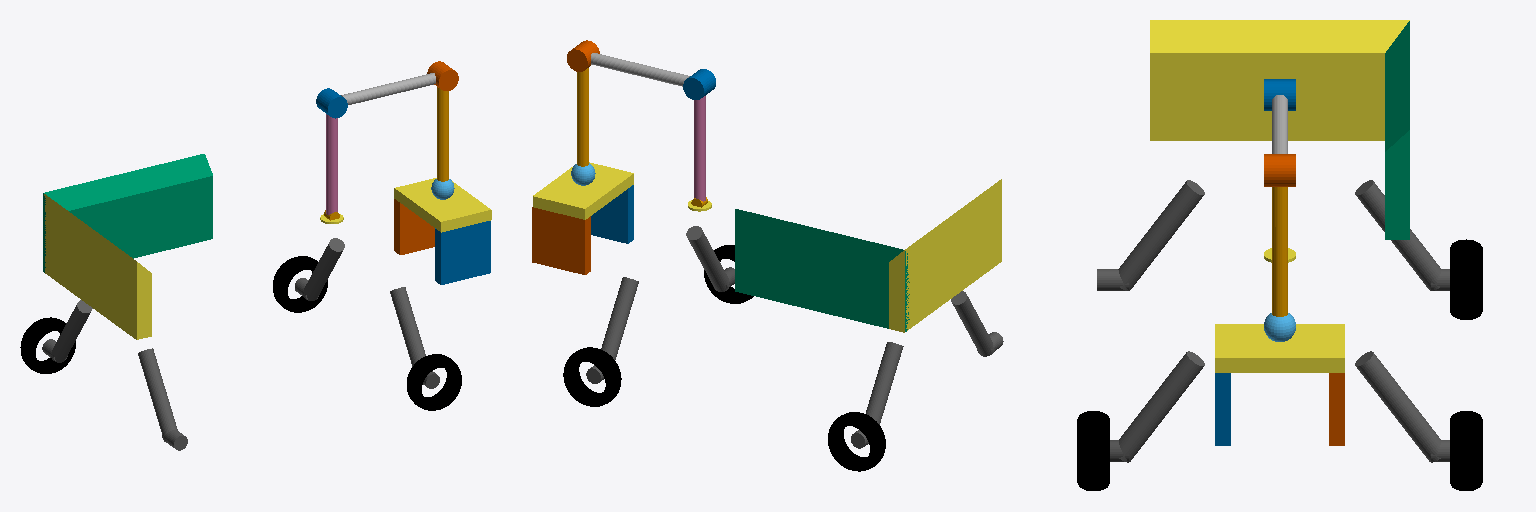
--- Facts derived from the render (not from the file) ---
Views: 3 orthographic renders of the robot side by side, from view 1: azimuth 30°, elevation 25°; view 2: azimuth 150°, elevation 25°; view 3: azimuth 270°, elevation 25°.
Model robot with 30 links and 29 joints (4 revolute, 6 continuous, 2 prismatic, 15 fixed, 2 floating), rooted at chasis, posed every joint at zero.
Visible links, largest first — view 1: pared_izq_link, pared_tr_link, pinza_dcha_link, base_pinza_link, rueda_dlt_dcha_link, pinza_izq_link, rueda_dlt_izq_link, rueda_tr_izq_link, susp_tr_dcha_link, susp_dlt_dcha_link, brazo_link1, brazo_link3 (+5 smaller); view 2: pared_izq_link, pared_tr_link, pinza_izq_link, base_pinza_link, rueda_tr_izq_link, rueda_dlt_izq_link, pinza_dcha_link, susp_dlt_izq_link, susp_tr_izq_link, brazo_link1, brazo_link2, susp_dlt_dcha_link (+5 smaller); view 3: pared_tr_link, base_pinza_link, pared_izq_link, susp_tr_dcha_link, susp_dlt_dcha_link, susp_dlt_izq_link, rueda_tr_izq_link, rueda_dlt_dcha_link, rueda_dlt_izq_link, susp_tr_izq_link, brazo_link3, pinza_dcha_link (+6 smaller).
Boxes of the visible links, box(x1,y1,x2,y2) form: pared_izq_link: box(43, 154, 212, 272); pared_tr_link: box(44, 194, 151, 339); pinza_dcha_link: box(435, 221, 490, 284); base_pinza_link: box(394, 178, 491, 232); rueda_dlt_dcha_link: box(407, 354, 461, 410); pinza_izq_link: box(394, 199, 434, 254); rueda_dlt_izq_link: box(273, 256, 327, 312); rueda_tr_izq_link: box(20, 317, 75, 373); susp_tr_dcha_link: box(138, 348, 177, 441); susp_dlt_dcha_link: box(390, 287, 425, 366); brazo_link1: box(326, 114, 337, 214); brazo_link3: box(437, 87, 448, 181); pared_izq_link: box(735, 209, 909, 331); pared_tr_link: box(889, 179, 1001, 332); pinza_izq_link: box(532, 207, 590, 274); base_pinza_link: box(533, 162, 633, 219); rueda_tr_izq_link: box(828, 412, 885, 471); rueda_dlt_izq_link: box(563, 347, 621, 406); pinza_dcha_link: box(591, 185, 633, 243); susp_dlt_izq_link: box(601, 277, 638, 359); susp_tr_izq_link: box(866, 342, 903, 424); brazo_link1: box(694, 96, 705, 201); brazo_link2: box(591, 53, 689, 86); susp_dlt_dcha_link: box(686, 226, 729, 291); pared_tr_link: box(1150, 20, 1409, 140); base_pinza_link: box(1215, 324, 1344, 372); pared_izq_link: box(1385, 21, 1409, 239); susp_tr_dcha_link: box(1118, 180, 1204, 290); susp_dlt_dcha_link: box(1119, 351, 1204, 462); susp_dlt_izq_link: box(1355, 351, 1440, 462); rueda_tr_izq_link: box(1450, 239, 1482, 319); rueda_dlt_dcha_link: box(1077, 411, 1109, 490); rueda_dlt_izq_link: box(1450, 411, 1482, 490); susp_tr_izq_link: box(1355, 180, 1441, 290); brazo_link3: box(1272, 187, 1287, 316); pinza_dcha_link: box(1215, 373, 1230, 445).
Size in the robot's own frame: 3.75 by 2.5 by 2.61 metres.
Meshes: 11 distinct files referenced, 5 mesh visuals loaded (5 Collada DAE); not drawn: 6 (reference not matched to a file when rendering).

robot.urdf — robot:
<?xml version="1.0"?>
<!-- created with Phobos 1.0.1 "Capricious Choutengan" -->
  <robot name="robot">

    <link name="Untitled">
      <inertial>
        <origin xyz="0 0 0" rpy="0 0 0"/>
        <mass value="0.001"/>
        <inertia ixx="0.001" ixy="0" ixz="0" iyy="0.001" iyz="0" izz="0.001"/>
      </inertial>
      <visual name="Cylinder.001">
        <origin xyz="0 0 0" rpy="0 0 0"/>
        <geometry>
          <cylinder radius="0.05" length="0.1"/>
        </geometry>
      </visual>
    </link>

    <link name="Untitled.002">
      <inertial>
        <origin xyz="0 0 0" rpy="0 0 0"/>
        <mass value="0.001"/>
        <inertia ixx="0.001" ixy="0" ixz="0" iyy="0.001" iyz="0" izz="0.001"/>
      </inertial>
      <visual name="brazo_eje3_obj">
        <origin xyz="0 0 0" rpy="-1.5708 0 0"/>
        <geometry>
          <sphere radius="0.1"/>
        </geometry>
      </visual>
      <collision name="brazo_eje3_col">
        <origin xyz="0 0 0" rpy="-1.5708 0 0"/>
        <geometry>
          <sphere radius="0.1"/>
        </geometry>
      </collision>
    </link>

    <link name="anclaje_brazo_link">
      <inertial>
        <origin xyz="0 0 0.05625" rpy="0 0 0"/>
        <mass value="1.0"/>
        <inertia ixx="0.02658" ixy="0" ixz="0" iyy="0.02658" iyz="0" izz="0.04167"/>
      </inertial>
      <visual name="soporte_brazo_obj">
        <origin xyz="0 0 0" rpy="0 0 0"/>
        <geometry>
          <mesh filename="../meshes/dae/Cube.010.dae" scale="0.25 0.25 0.075"/>
        </geometry>
      </visual>
      <collision name="soporte_brazo_col">
        <origin xyz="0 0 0.05625" rpy="0 0 0"/>
        <geometry>
          <box size="0.5 0.5 0.2625"/>
        </geometry>
      </collision>
    </link>

    <link name="base_pinza_link">
      <inertial>
        <origin xyz="0 0 0" rpy="0 0 0"/>
        <mass value="0.5"/>
        <inertia ixx="0.001" ixy="0" ixz="0" iyy="0.001" iyz="0" izz="0.001"/>
      </inertial>
      <visual name="base_pinza_obj">
        <origin xyz="0 0 0" rpy="-1.5708 0 -0.00175"/>
        <geometry>
          <box size="0.5 0.1 0.8"/>
        </geometry>
      </visual>
      <collision name="base_pinza_col">
        <origin xyz="0 0 0" rpy="-1.5708 0 -0.00175"/>
        <geometry>
          <box size="0.5 0.1 0.8"/>
        </geometry>
      </collision>
    </link>

    <link name="brazo_eje1_link">
      <inertial>
        <origin xyz="0 0 0" rpy="0 0 0"/>
        <mass value="1.0"/>
        <inertia ixx="2e-05" ixy="0" ixz="0" iyy="2e-05" iyz="0" izz="2e-05"/>
      </inertial>
      <visual name="brazo_eje1_obj">
        <origin xyz="0 0 0" rpy="0 0 0"/>
        <geometry>
          <cylinder radius="0.1" length="0.2"/>
        </geometry>
      </visual>
      <collision name="brazo_eje1_col">
        <origin xyz="0 0 0" rpy="0 0 0"/>
        <geometry>
          <cylinder radius="0.1" length="0.2"/>
        </geometry>
      </collision>
    </link>

    <link name="brazo_eje2_link">
      <inertial>
        <origin xyz="0 0 0" rpy="0 0 0"/>
        <mass value="1.0"/>
        <inertia ixx="0.00583" ixy="0" ixz="0" iyy="0.005" iyz="0" izz="0.00583"/>
      </inertial>
      <visual name="brazo_eje2_obj">
        <origin xyz="0 0 0" rpy="0 0 0"/>
        <geometry>
          <cylinder radius="0.1" length="0.2"/>
        </geometry>
      </visual>
      <collision name="brazo_eje2_col">
        <origin xyz="0 0 0" rpy="0 0 0"/>
        <geometry>
          <cylinder radius="0.1" length="0.2"/>
        </geometry>
      </collision>
    </link>

    <link name="brazo_link1">
      <inertial>
        <origin xyz="0 0 0" rpy="0 0 0"/>
        <mass value="1.0"/>
        <inertia ixx="0.001" ixy="0" ixz="0" iyy="0.001" iyz="0" izz="0.001"/>
      </inertial>
      <visual name="brazo_link1_obj">
        <origin xyz="0 0 0" rpy="0 0 0"/>
        <geometry>
          <cylinder radius="0.05" length="1.0"/>
        </geometry>
      </visual>
      <collision name="brazo_link1_col">
        <origin xyz="0 0 0" rpy="0 0 0"/>
        <geometry>
          <cylinder radius="0.05" length="1.0"/>
        </geometry>
      </collision>
    </link>

    <link name="brazo_link2">
      <inertial>
        <origin xyz="0 0 0" rpy="0 0 0"/>
        <mass value="1.0"/>
        <inertia ixx="0.001" ixy="0" ixz="0" iyy="0.001" iyz="0" izz="0.001"/>
      </inertial>
      <visual name="brazo_link2_obj">
        <origin xyz="0 0 0" rpy="0 0 0"/>
        <geometry>
          <cylinder radius="0.05" length="1.0"/>
        </geometry>
      </visual>
      <collision name="brazo_link2_col">
        <origin xyz="0 0 0" rpy="0 0 0"/>
        <geometry>
          <cylinder radius="0.05" length="1.0"/>
        </geometry>
      </collision>
    </link>

    <link name="brazo_link3">
      <inertial>
        <origin xyz="0 0 0" rpy="0 0 0"/>
        <mass value="1.0"/>
        <inertia ixx="0.001" ixy="0" ixz="0" iyy="0.001" iyz="0" izz="0.001"/>
      </inertial>
      <visual name="brazo_link3_obj">
        <origin xyz="0 0 0" rpy="3.14159 0 0"/>
        <geometry>
          <cylinder radius="0.05" length="1.0"/>
        </geometry>
      </visual>
      <collision name="brazo_link3_col">
        <origin xyz="0 0 0" rpy="3.14159 0 0"/>
        <geometry>
          <cylinder radius="0.05" length="1.0"/>
        </geometry>
      </collision>
    </link>

    <link name="cabeza_mono">
      <inertial>
        <origin xyz="0 0 0" rpy="0 0 0"/>
        <mass value="0.001"/>
        <inertia ixx="0.001" ixy="0" ixz="0" iyy="0.001" iyz="0" izz="0.001"/>
      </inertial>
      <visual name="Suzanne">
        <origin xyz="0 0 0" rpy="0 0 0"/>
        <geometry>
          <mesh filename="../meshes/dae/Suzanne.dae" scale="0.54857 0.29358 0.35556"/>
        </geometry>
        <material name="Material.016"/>
      </visual>
    </link>

    <link name="chasis">
      <inertial>
        <origin xyz="0 0 0" rpy="0 0 0"/>
        <mass value="50.0"/>
        <inertia ixx="2.11781" ixy="0.18492" ixz="0" iyy="7.11432" iyz="-0.01546" izz="8.96889"/>
      </inertial>
      <visual name="base">
        <origin xyz="0 0 0" rpy="0 0 0"/>
        <geometry>
          <mesh filename="../meshes/dae/Cube.001.dae" scale="1.5 0.8 0.2"/>
        </geometry>
      </visual>
      <collision name="base_col">
        <origin xyz="0 0 0" rpy="0 0 0"/>
        <geometry>
          <mesh filename="../meshes/dae/Cube.031.dae" scale="1.0 1.0 1.0"/>
        </geometry>
      </collision>
    </link>

    <link name="eje_base_rot_z_link">
      <inertial>
        <origin xyz="0 0 0" rpy="0 0 0"/>
        <mass value="0.001"/>
        <inertia ixx="0.001" ixy="0" ixz="0" iyy="0.001" iyz="0" izz="0.001"/>
      </inertial>
      <visual name="Cylinder">
        <origin xyz="0 0 0" rpy="0 0 0"/>
        <geometry>
          <cylinder radius="0.1" length="0.02"/>
        </geometry>
      </visual>
    </link>

    <link name="eje_dlt_dcha_link">
      <inertial>
        <origin xyz="0 0 0" rpy="0 0 0"/>
        <mass value="1.0"/>
        <inertia ixx="0.00456" ixy="0" ixz="0" iyy="0.00245" iyz="0" izz="0.00456"/>
      </inertial>
      <visual name="eje_dlt_dcha_obj">
        <origin xyz="0 0 0" rpy="1.5708 0 0"/>
        <geometry>
          <cylinder radius="0.07" length="0.2"/>
        </geometry>
        <material name="Material.006"/>
      </visual>
      <collision name="eje_dlt_dcha_col">
        <origin xyz="0 0 0" rpy="1.5708 0 0"/>
        <geometry>
          <cylinder radius="0.07" length="0.2"/>
        </geometry>
      </collision>
    </link>

    <link name="eje_dlt_izq_link">
      <inertial>
        <origin xyz="0 0 0" rpy="0 0 0"/>
        <mass value="1.0"/>
        <inertia ixx="0.00456" ixy="0" ixz="0" iyy="0.00245" iyz="0" izz="0.00456"/>
      </inertial>
      <visual name="eje_dlt_izq_obj">
        <origin xyz="0 0 0" rpy="1.5708 0 0"/>
        <geometry>
          <cylinder radius="0.07" length="0.2"/>
        </geometry>
        <material name="Material.011"/>
      </visual>
      <collision name="eje_dlt_izq_col">
        <origin xyz="0 0 0" rpy="1.5708 0 0"/>
        <geometry>
          <cylinder radius="0.07" length="0.2"/>
        </geometry>
      </collision>
    </link>

    <link name="eje_tr_dcha_link">
      <inertial>
        <origin xyz="0 0 0" rpy="0 0 0"/>
        <mass value="1.0"/>
        <inertia ixx="0.00456" ixy="0" ixz="0" iyy="0.00245" iyz="0" izz="0.00456"/>
      </inertial>
      <visual name="eje_tr_dcha_obj">
        <origin xyz="0 0 0" rpy="1.5708 0 0"/>
        <geometry>
          <cylinder radius="0.07" length="0.2"/>
        </geometry>
        <material name="Material.014"/>
      </visual>
      <collision name="eje_tr_dcha_col">
        <origin xyz="0 0 0" rpy="1.5708 0 0"/>
        <geometry>
          <cylinder radius="0.07" length="0.2"/>
        </geometry>
      </collision>
    </link>

    <link name="eje_tr_izq_link">
      <inertial>
        <origin xyz="0 0 0" rpy="0 0 0"/>
        <mass value="1.0"/>
        <inertia ixx="0.00456" ixy="0" ixz="0" iyy="0.00245" iyz="0" izz="0.00456"/>
      </inertial>
      <visual name="eje_tr_izq_obj">
        <origin xyz="0 0 0" rpy="1.5708 0 0"/>
        <geometry>
          <cylinder radius="0.07" length="0.2"/>
        </geometry>
        <material name="Material.012"/>
      </visual>
      <collision name="eje_tr_izq_col">
        <origin xyz="0 0 0" rpy="1.5708 0 0"/>
        <geometry>
          <cylinder radius="0.07" length="0.2"/>
        </geometry>
      </collision>
    </link>

    <link name="pared_dcha_link">
      <inertial>
        <origin xyz="0 0 0" rpy="0 0 0"/>
        <mass value="3.0"/>
        <inertia ixx="0.14438" ixy="-0.00938" ixz="0.01333" iyy="0.77875" iyz="0" izz="0.64562"/>
      </inertial>
      <visual name="pared_dcha_obj">
        <origin xyz="0 0 0" rpy="0 0 0"/>
        <geometry>
          <mesh filename="../meshes/dae/Cube.dae" scale="0.075 0.8 0.3"/>
        </geometry>
      </visual>
      <collision name="pared_dcha_col">
        <origin xyz="0 0 0" rpy="0 0 0"/>
        <geometry>
          <mesh filename="../meshes/dae/Cube.035.dae" scale="1.0 1.0 1.0"/>
        </geometry>
      </collision>
    </link>

    <link name="pared_dlt_link">
      <inertial>
        <origin xyz="0 0 0" rpy="0 0 0"/>
        <mass value="3.0"/>
        <inertia ixx="0.76625" ixy="0.00087" ixz="0" iyy="0.13188" iyz="-0.01067" izz="0.64562"/>
      </inertial>
      <visual name="pared_dlt_obj">
        <origin xyz="0 0 0" rpy="0 0 0"/>
        <geometry>
          <mesh filename="../meshes/dae/Cube.003.dae" scale="0.075 0.8 0.3"/>
        </geometry>
      </visual>
      <collision name="pared_dlt_col">
        <origin xyz="0 0 0" rpy="0 0 0"/>
        <geometry>
          <mesh filename="../meshes/dae/Cube.034.dae" scale="1.0 1.0 1.0"/>
        </geometry>
      </collision>
    </link>

    <link name="pared_izq_link">
      <inertial>
        <origin xyz="0 0 0" rpy="0 0 0"/>
        <mass value="3.0"/>
        <inertia ixx="0.13188" ixy="-0.00088" ixz="0.01067" iyy="0.76625" iyz="0" izz="0.64562"/>
      </inertial>
      <visual name="pared_izq_obj">
        <origin xyz="0 0 0" rpy="0 0 0"/>
        <geometry>
          <mesh filename="../meshes/dae/Cube.004.dae" scale="0.075 0.8 0.3"/>
        </geometry>
      </visual>
      <collision name="pared_izq_col">
        <origin xyz="0 0 0" rpy="0 0 0"/>
        <geometry>
          <mesh filename="../meshes/dae/Cube.033.dae" scale="1.0 1.0 1.0"/>
        </geometry>
      </collision>
    </link>

    <link name="pared_tr_link">
      <inertial>
        <origin xyz="0 0 0" rpy="0 0 0"/>
        <mass value="3.0"/>
        <inertia ixx="0.77875" ixy="0.00938" ixz="0" iyy="0.14438" iyz="-0.01333" izz="0.64562"/>
      </inertial>
      <visual name="pared_tr_obj">
        <origin xyz="0 0 0" rpy="0 0 0"/>
        <geometry>
          <mesh filename="../meshes/dae/Cube.005.dae" scale="0.075 0.8 0.3"/>
        </geometry>
      </visual>
      <collision name="pared_tr_col">
        <origin xyz="0 0 0" rpy="0 0 0"/>
        <geometry>
          <mesh filename="../meshes/dae/Cube.036.dae" scale="1.0 1.0 1.0"/>
        </geometry>
      </collision>
    </link>

    <link name="pinza_dcha_link">
      <inertial>
        <origin xyz="0 0 0" rpy="0 0 0"/>
        <mass value="0.5"/>
        <inertia ixx="0.001" ixy="0" ixz="0" iyy="0.001" iyz="0" izz="0.001"/>
      </inertial>
      <visual name="pinza_dcha_obj">
        <origin xyz="0 0 0" rpy="1.5708 0 0"/>
        <geometry>
          <box size="0.5 0.1 0.5"/>
        </geometry>
      </visual>
      <collision name="pinza_dcha_col">
        <origin xyz="0 0 0" rpy="1.5708 0 0"/>
        <geometry>
          <box size="0.5 0.1 0.5"/>
        </geometry>
      </collision>
    </link>

    <link name="pinza_izq_link">
      <inertial>
        <origin xyz="0 0 0" rpy="0 0 0"/>
        <mass value="0.5"/>
        <inertia ixx="0.001" ixy="0" ixz="0" iyy="0.001" iyz="0" izz="0.001"/>
      </inertial>
      <visual name="pinza_izq_obj">
        <origin xyz="0 0 0" rpy="-1.5708 0 0"/>
        <geometry>
          <box size="0.5 0.1 0.5"/>
        </geometry>
      </visual>
      <collision name="pinza_izq_col">
        <origin xyz="0 0 0" rpy="-1.5708 0 0"/>
        <geometry>
          <box size="0.5 0.1 0.5"/>
        </geometry>
      </collision>
    </link>

    <link name="rueda_dlt_dcha_link">
      <inertial>
        <origin xyz="0 0 0" rpy="0 0 0"/>
        <mass value="1.0"/>
        <inertia ixx="0.01662" ixy="0" ixz="0" iyy="0.02926" iyz="0" izz="0.01662"/>
      </inertial>
      <visual name="rueda_dlt_dcha_obj">
        <origin xyz="0 0 0" rpy="-3.14159 0 0"/>
        <geometry>
          <mesh filename="../meshes/dae/Torus.006.dae" scale="0.2 0.2 0.4"/>
        </geometry>
        <material name="Material"/>
      </visual>
      <collision name="rueda_dlt_dcha_col">
        <origin xyz="0 0 0" rpy="-3.14159 0 0"/>
        <geometry>
          <mesh filename="../meshes/dae/Torus.004.dae" scale="1.0 1.0 1.0"/>
        </geometry>
      </collision>
    </link>

    <link name="rueda_dlt_izq_link">
      <inertial>
        <origin xyz="0 0 0" rpy="0 0 0"/>
        <mass value="1.0"/>
        <inertia ixx="0.01662" ixy="0" ixz="0" iyy="0.02926" iyz="0" izz="0.01662"/>
      </inertial>
      <visual name="rueda_dlt_izq_obj">
        <origin xyz="0 0 0" rpy="-3.14159 0 0"/>
        <geometry>
          <mesh filename="../meshes/dae/Torus.007.dae" scale="0.2 0.2 0.4"/>
        </geometry>
        <material name="Material.001"/>
      </visual>
      <collision name="rueda_dlt_izq_col">
        <origin xyz="0 0 0" rpy="-3.14159 0 0"/>
        <geometry>
          <mesh filename="../meshes/dae/Torus.008.dae" scale="1.0 1.0 1.0"/>
        </geometry>
      </collision>
    </link>

    <link name="rueda_tr_dcha_link">
      <inertial>
        <origin xyz="0 0 0" rpy="0 0 0"/>
        <mass value="1.0"/>
        <inertia ixx="0.01662" ixy="0" ixz="0" iyy="0.02926" iyz="0" izz="0.01662"/>
      </inertial>
      <visual name="rueda_tr_dcha_obj">
        <origin xyz="0 0 0" rpy="0 -3.14159 0"/>
        <geometry>
          <mesh filename="../meshes/dae/Torus.002.dae" scale="0.2 0.2 0.4"/>
        </geometry>
        <material name="Material.005"/>
      </visual>
      <collision name="rueda_tr_dcha_col">
        <origin xyz="0 0 0" rpy="0 -3.14159 0"/>
        <geometry>
          <mesh filename="../meshes/dae/Torus.010.dae" scale="1.0 1.0 1.0"/>
        </geometry>
      </collision>
    </link>

    <link name="rueda_tr_izq_link">
      <inertial>
        <origin xyz="0 0 0" rpy="0 0 0"/>
        <mass value="1.0"/>
        <inertia ixx="0.01662" ixy="0" ixz="0" iyy="0.02926" iyz="0" izz="0.01662"/>
      </inertial>
      <visual name="rueda_tr_izq_obj">
        <origin xyz="0 0 0" rpy="-3.14159 0 0"/>
        <geometry>
          <mesh filename="../meshes/dae/Torus.000.dae" scale="0.2 0.2 0.4"/>
        </geometry>
        <material name="Material.004"/>
      </visual>
      <collision name="rueda_tr_izq_col">
        <origin xyz="0 0 0" rpy="-3.14159 0 0"/>
        <geometry>
          <mesh filename="../meshes/dae/Torus.001.dae" scale="1.0 1.0 1.0"/>
        </geometry>
      </collision>
    </link>

    <link name="susp_dlt_dcha_link">
      <inertial>
        <origin xyz="0 0 0" rpy="0 0 0"/>
        <mass value="2.0"/>
        <inertia ixx="2e-05" ixy="0" ixz="0" iyy="2e-05" iyz="-4e-05" izz="0.00201"/>
      </inertial>
      <visual name="susp_dlt_dcha_obj">
        <origin xyz="0 0 0" rpy="0 0 0"/>
        <geometry>
          <cylinder radius="0.07" length="0.8"/>
        </geometry>
        <material name="Material.009"/>
      </visual>
      <collision name="susp_dlt_dcha_col">
        <origin xyz="0 0 0" rpy="0 0 0"/>
        <geometry>
          <cylinder radius="0.07" length="0.8"/>
        </geometry>
      </collision>
    </link>

    <link name="susp_dlt_izq_link">
      <inertial>
        <origin xyz="0 0 0" rpy="0 0 0"/>
        <mass value="2.0"/>
        <inertia ixx="0.10912" ixy="0" ixz="0" iyy="0.07472" iyz="0.04901" izz="0.0393"/>
      </inertial>
      <visual name="susp_dlt_izq_obj">
        <origin xyz="0 0 0" rpy="0 0 0"/>
        <geometry>
          <cylinder radius="0.07" length="0.8"/>
        </geometry>
        <material name="Material.010"/>
      </visual>
      <collision name="susp_dlt_izq_col">
        <origin xyz="0 0 0" rpy="0 0 0"/>
        <geometry>
          <cylinder radius="0.07" length="0.8"/>
        </geometry>
      </collision>
    </link>

    <link name="susp_tr_dcha_link">
      <inertial>
        <origin xyz="0 0 0" rpy="0 0 0"/>
        <mass value="2.0"/>
        <inertia ixx="0.1091" ixy="0" ixz="0" iyy="0.0747" iyz="-0.04901" izz="0.03927"/>
      </inertial>
      <visual name="susp_tr_dcha_obj">
        <origin xyz="0 0 0" rpy="0 0 0"/>
        <geometry>
          <cylinder radius="0.07" length="0.8"/>
        </geometry>
        <material name="Material.015"/>
      </visual>
      <collision name="susp_tr_dcha_col">
        <origin xyz="0 0 0" rpy="0 0 0"/>
        <geometry>
          <mesh filename="../meshes/dae/Cylinder.027.dae" scale="1.0 1.0 1.0"/>
        </geometry>
      </collision>
    </link>

    <link name="susp_tr_izq_link">
      <inertial>
        <origin xyz="0 0 0" rpy="0 0 0"/>
        <mass value="2.0"/>
        <inertia ixx="0.10912" ixy="0" ixz="0" iyy="0.07472" iyz="0.04901" izz="0.0393"/>
      </inertial>
      <visual name="susp_tr_izq_obj">
        <origin xyz="0 0 0" rpy="0 0 0"/>
        <geometry>
          <cylinder radius="0.07" length="0.8"/>
        </geometry>
        <material name="Material.013"/>
      </visual>
      <collision name="susp_tr_izq_col">
        <origin xyz="0 0 0" rpy="0 0 0"/>
        <geometry>
          <cylinder radius="0.07" length="0.8"/>
        </geometry>
      </collision>
    </link>

    <joint name="Untitled" type="revolute">
      <origin xyz="0 0 0.03" rpy="1.5708 0 0"/>
      <parent link="eje_base_rot_z_link"/>
      <child link="Untitled"/>
      <axis xyz="0 0 1.0"/>
      <limit lower="-0.5236" upper="0.5236" effort="0" velocity="0"/>
    </joint>

    <joint name="Untitled.002" type="revolute">
      <origin xyz="0 0 0.52" rpy="-1.5708 0 0"/>
      <parent link="brazo_link3"/>
      <child link="Untitled.002"/>
      <axis xyz="0 0 1.0"/>
      <limit lower="-1.5708" upper="1.5708" effort="0" velocity="0"/>
    </joint>

    <joint name="anclaje_brazo_joint" type="fixed">
      <origin xyz="0.9 0 0.275" rpy="0 0 0"/>
      <parent link="chasis"/>
      <child link="anclaje_brazo_link"/>
    </joint>

    <joint name="base_pinza_ljoint" type="fixed">
      <origin xyz="0 -0.15 0" rpy="1.5708 0 0"/>
      <parent link="Untitled.002"/>
      <child link="base_pinza_link"/>
    </joint>

    <joint name="brazo_eje1_joint" type="revolute">
      <origin xyz="0 0 0.54" rpy="1.5708 0 0"/>
      <parent link="brazo_link1"/>
      <child link="brazo_eje1_link"/>
      <axis xyz="0 0 1.0"/>
      <limit lower="-0.7854" upper="3.14159" effort="0" velocity="0.1"/>
    </joint>

    <joint name="brazo_eje2_joint" type="revolute">
      <origin xyz="0 0 0.5" rpy="1.5708 -1.5708 0"/>
      <parent link="brazo_link2"/>
      <child link="brazo_eje2_link"/>
      <axis xyz="0 0 1.0"/>
      <limit lower="0" upper="3.14159" effort="0" velocity="0"/>
    </joint>

    <joint name="brazo_joint1" type="fixed">
      <origin xyz="0 0.52 0" rpy="-1.5708 0 0"/>
      <parent link="Untitled"/>
      <child link="brazo_link1"/>
    </joint>

    <joint name="brazo_joint2" type="fixed">
      <origin xyz="0.6 0 0" rpy="-1.5708 0 -1.5708"/>
      <parent link="brazo_eje1_link"/>
      <child link="brazo_link2"/>
    </joint>

    <joint name="brazo_joint3" type="continuous">
      <origin xyz="0 -0.54 0" rpy="1.5708 0 0"/>
      <parent link="brazo_eje2_link"/>
      <child link="brazo_link3"/>
      <axis xyz="0 0 1.0"/>
      <limit effort="3.0" velocity="2.0"/>
    </joint>

    <joint name="cabeza_mono_joint" type="fixed">
      <origin xyz="-1.75 0 0.55" rpy="0 0 -1.5708"/>
      <parent link="chasis"/>
      <child link="cabeza_mono"/>
    </joint>

    <joint name="eje_base_rot_z_joint" type="continuous">
      <origin xyz="0 0 0.195" rpy="0 0 0"/>
      <parent link="anclaje_brazo_link"/>
      <child link="eje_base_rot_z_link"/>
      <axis xyz="0 0 1.0"/>
      <limit effort="0" velocity="0.1"/>
    </joint>

    <joint name="eje_dlt_dcha_joint" type="fixed">
      <origin xyz="0 0.05682 0.40641" rpy="-2.52957 0 0"/>
      <parent link="susp_dlt_dcha_link"/>
      <child link="eje_dlt_dcha_link"/>
    </joint>

    <joint name="eje_dlt_izq_joint" type="floating">
      <origin xyz="0 0.05682 0.40641" rpy="-0.61202 -3.14159 0"/>
      <parent link="susp_dlt_izq_link"/>
      <child link="eje_dlt_izq_link"/>
    </joint>

    <joint name="eje_tr_dcha_joint" type="floating">
      <origin xyz="0 0.05682 0.40641" rpy="-2.52957 0 0"/>
      <parent link="susp_tr_dcha_link"/>
      <child link="eje_tr_dcha_link"/>
    </joint>

    <joint name="eje_tr_izq_joint" type="fixed">
      <origin xyz="0 0.05682 0.40641" rpy="-0.61202 3.14159 0"/>
      <parent link="susp_tr_izq_link"/>
      <child link="eje_tr_izq_link"/>
    </joint>

    <joint name="pared_dcha_joint" type="fixed">
      <origin xyz="-0.7 -0.725 0.5" rpy="0 0 1.5708"/>
      <parent link="chasis"/>
      <child link="pared_dcha_link"/>
    </joint>

    <joint name="pared_dlt_joint" type="fixed">
      <origin xyz="0.03 0 0.5" rpy="0 0 0"/>
      <parent link="chasis"/>
      <child link="pared_dlt_link"/>
    </joint>

    <joint name="pared_izq_joint" type="fixed">
      <origin xyz="-0.7 0.725 0.5" rpy="0 0 1.5708"/>
      <parent link="chasis"/>
      <child link="pared_izq_link"/>
    </joint>

    <joint name="pared_tr_joint" type="fixed">
      <origin xyz="-1.425 0 0.5" rpy="0 0 0"/>
      <parent link="chasis"/>
      <child link="pared_tr_link"/>
    </joint>

    <joint name="pinza _izq_joint" type="prismatic">
      <origin xyz="0 -0.35 0.3" rpy="-1.5708 0 0"/>
      <parent link="base_pinza_link"/>
      <child link="pinza_izq_link"/>
      <axis xyz="0 0 1.0"/>
      <limit lower="0" upper="0.06" effort="0" velocity="200.0"/>
    </joint>

    <joint name="pinza_dcha_joint" type="prismatic">
      <origin xyz="0 0.35 0.3" rpy="1.5708 0 0"/>
      <parent link="base_pinza_link"/>
      <child link="pinza_dcha_link"/>
      <axis xyz="0 0 1.0"/>
      <limit lower="0" upper="0.06" effort="0" velocity="200.0"/>
    </joint>

    <joint name="rueda_dlt_dcha_joint" type="continuous">
      <origin xyz="0 -0.12 0" rpy="1.5708 0 -3.14159"/>
      <parent link="eje_dlt_dcha_link"/>
      <child link="rueda_dlt_dcha_link"/>
      <axis xyz="0 0 1.0"/>
      <limit effort="0" velocity="0"/>
    </joint>

    <joint name="rueda_dlt_izq_joint" type="continuous">
      <origin xyz="0 0.12 0" rpy="-1.5708 0 0"/>
      <parent link="eje_dlt_izq_link"/>
      <child link="rueda_dlt_izq_link"/>
      <axis xyz="0 0 1.0"/>
      <limit effort="0" velocity="0"/>
    </joint>

    <joint name="rueda_tr_dcha_joint" type="continuous">
      <origin xyz="0 -0.12 0" rpy="-1.5708 0 0"/>
      <parent link="eje_tr_dcha_link"/>
      <child link="rueda_tr_dcha_link"/>
      <axis xyz="0 0 1.0"/>
      <limit effort="0" velocity="0"/>
    </joint>

    <joint name="rueda_tr_izq_joint" type="continuous">
      <origin xyz="0 0.12 0" rpy="-1.5708 0 0"/>
      <parent link="eje_tr_izq_link"/>
      <child link="rueda_tr_izq_link"/>
      <axis xyz="0 0 1.0"/>
      <limit effort="0" velocity="0"/>
    </joint>

    <joint name="susp_dlt_dcha_joint" type="fixed">
      <origin xyz="1.25 -0.75 -0.4" rpy="2.52957 0 0"/>
      <parent link="chasis"/>
      <child link="susp_dlt_dcha_link"/>
    </joint>

    <joint name="susp_dlt_izq_joint" type="fixed">
      <origin xyz="1.25 0.75 -0.4" rpy="-0.61202 3.14159 0"/>
      <parent link="chasis"/>
      <child link="susp_dlt_izq_link"/>
    </joint>

    <joint name="susp_tr_dcha_joint" type="fixed">
      <origin xyz="-1.25 -0.75 -0.4" rpy="2.52957 0 0"/>
      <parent link="chasis"/>
      <child link="susp_tr_dcha_link"/>
    </joint>

    <joint name="susp_tr_izq_joint" type="fixed">
      <origin xyz="-1.25 0.75 -0.4" rpy="-0.61202 3.14159 0"/>
      <parent link="chasis"/>
      <child link="susp_tr_izq_link"/>
    </joint>

    <material name="Material">
      <color rgba="0 0 0 1.0"/>
    </material>

    <material name="Material.001">
      <color rgba="0.00082 0.00082 0.00082 1.0"/>
    </material>

    <material name="Material.004">
      <color rgba="0 0 0 1.0"/>
    </material>

    <material name="Material.005">
      <color rgba="0 0 0 1.0"/>
    </material>

    <material name="Material.006">
      <color rgba="0.36 0.36 0.36 1.0"/>
    </material>

    <material name="Material.009">
      <color rgba="0.4 0.4 0.4 1.0"/>
    </material>

    <material name="Material.010">
      <color rgba="0.4 0.4 0.4 1.0"/>
    </material>

    <material name="Material.011">
      <color rgba="0.4 0.4 0.4 1.0"/>
    </material>

    <material name="Material.012">
      <color rgba="0.4 0.4 0.4 1.0"/>
    </material>

    <material name="Material.013">
      <color rgba="0.4 0.4 0.4 1.0"/>
    </material>

    <material name="Material.014">
      <color rgba="0.4 0.4 0.4 1.0"/>
    </material>

    <material name="Material.015">
      <color rgba="0.4 0.4 0.4 1.0"/>
    </material>

    <material name="Material.016">
      <color rgba="0.49693 0.37967 0 1.0"/>
    </material>

  </robot>
